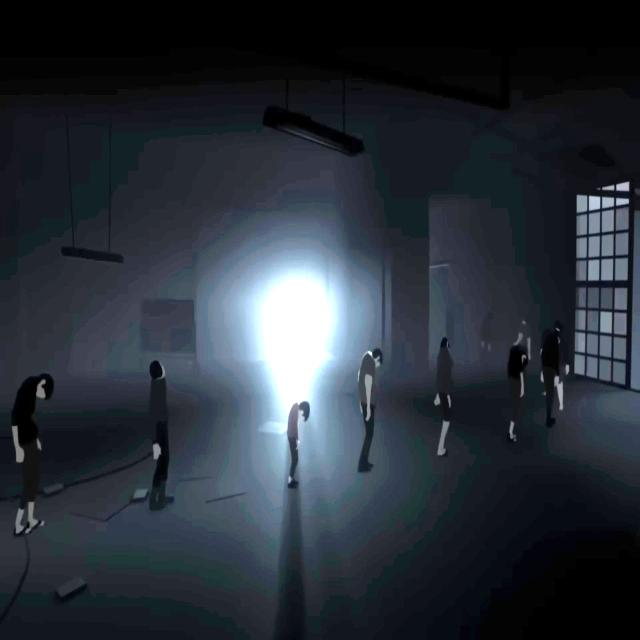boy: (286, 399, 310, 490)
